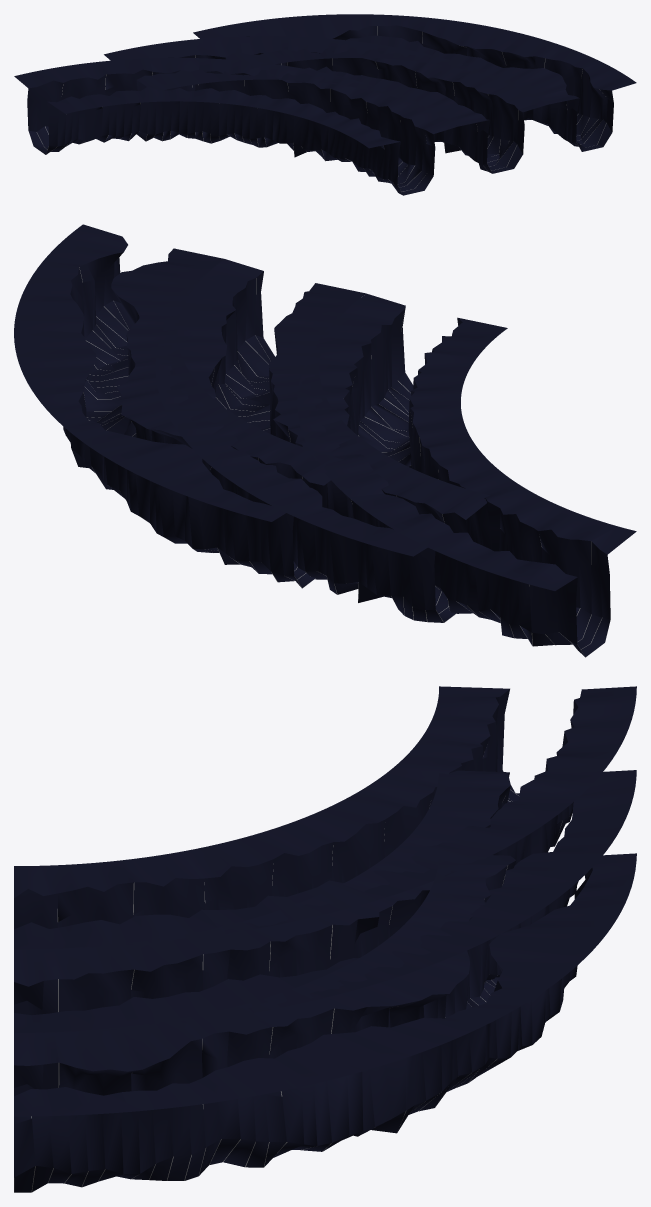
The model's file is leftcurve.FBX.
3 views of the same model, one above another, from view 1: azimuth 30°, elevation 25°; view 2: azimuth 150°, elevation 25°; view 3: azimuth 270°, elevation 25° (orthographic). The views are drawn at different scales.
Parts seen in each view (by area): view 1: leftcurve003, leftcurve002, leftcurve001; view 2: leftcurve002, leftcurve003, leftcurve001; view 3: leftcurve002, leftcurve003, leftcurve001.
Part boxes in pixels (left/top/right/bottom): leftcurve003: left=14, top=58, right=457, bottom=195; leftcurve002: left=193, top=14, right=636, bottom=151; leftcurve001: left=104, top=36, right=547, bottom=173; leftcurve002: left=14, top=224, right=343, bottom=588; leftcurve003: left=297, top=293, right=636, bottom=657; leftcurve001: left=155, top=259, right=489, bottom=622; leftcurve002: left=14, top=853, right=636, bottom=1192; leftcurve003: left=14, top=686, right=636, bottom=949; leftcurve001: left=14, top=770, right=636, bottom=1033.
Bounding box in the file's own units: 7.85 × 0.9882 × 4.81.
